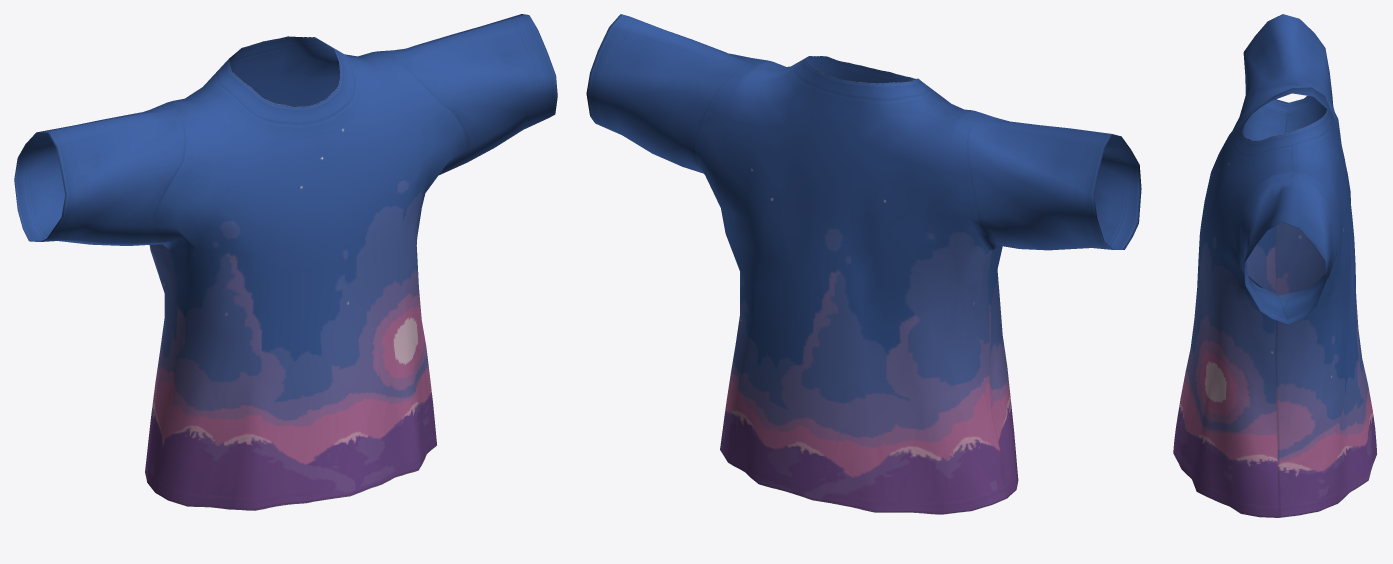
Rendered from tshirt_tpose.glb.
3 views of the same model, side by side, from view 1: azimuth 30°, elevation 25°; view 2: azimuth 150°, elevation 25°; view 3: azimuth 270°, elevation 25° (orthographic). The views are drawn at different scales.
Parts seen in each view (by area): view 1: tshirt_tpose; view 2: tshirt_tpose; view 3: tshirt_tpose.
Part boxes in pixels (x1,y1,x2,y2): tshirt_tpose: (14, 14, 557, 510); tshirt_tpose: (586, 14, 1141, 514); tshirt_tpose: (1173, 14, 1376, 517).
Bounding box in the file's own units: 0.8467 × 0.704 × 0.3368.
1 material, 1 textured.
